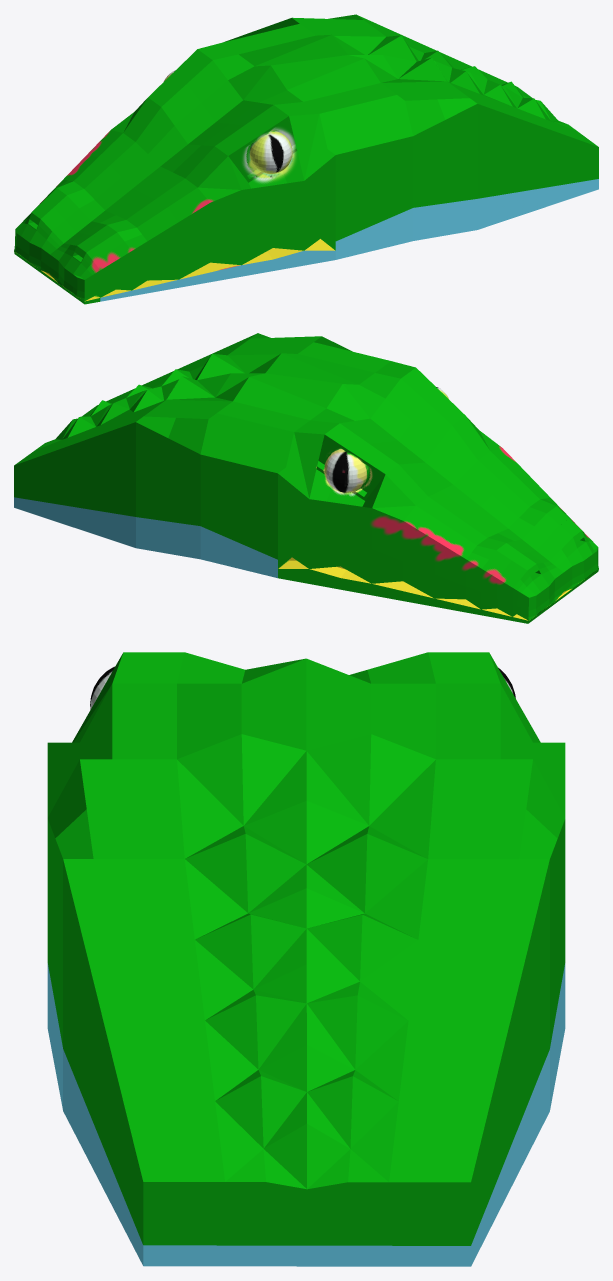
The model's file is crocodile.glb.
3 renders of one model, top to bottom at view 1: azimuth 30°, elevation 25°; view 2: azimuth 150°, elevation 25°; view 3: azimuth 270°, elevation 25°, orthographic. The views are drawn at different scales.
Parts seen in each view (by area): view 1: Cube; view 2: Cube; view 3: Cube.
Part boxes in pixels (x1=…): Cube: x1=14, y1=14, x2=598, y2=304; Cube: x1=14, y1=333, x2=598, y2=623; Cube: x1=47, y1=652, x2=565, y2=1266.
Bounding box in the file's own units: 5.26 × 1.61 × 2.3.
Materials: 2 (1 with a texture image).
